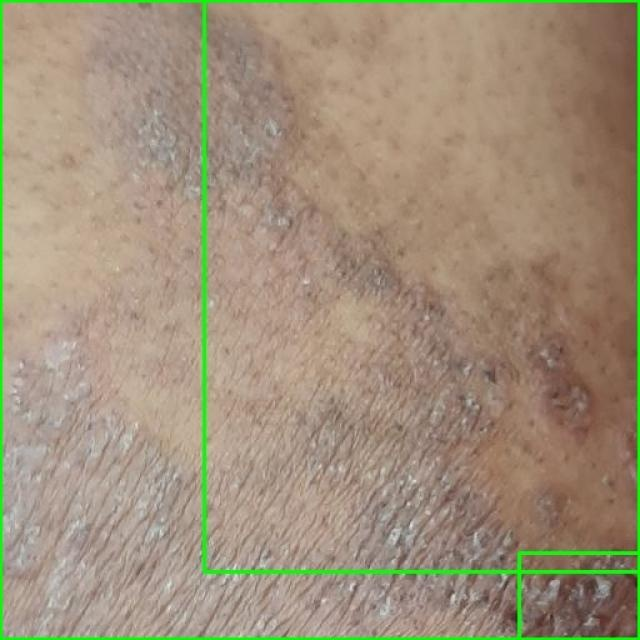Tinea Corporis: (0, 0, 639, 639), (204, 0, 639, 571), (519, 552, 639, 639)
